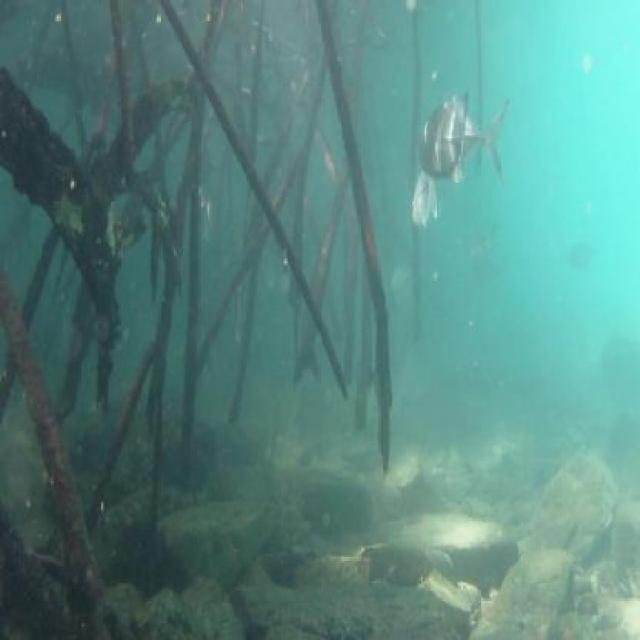Caranx_sexfasciatus_juvenile: (446, 82, 514, 188), (414, 83, 472, 197), (404, 157, 438, 243)
